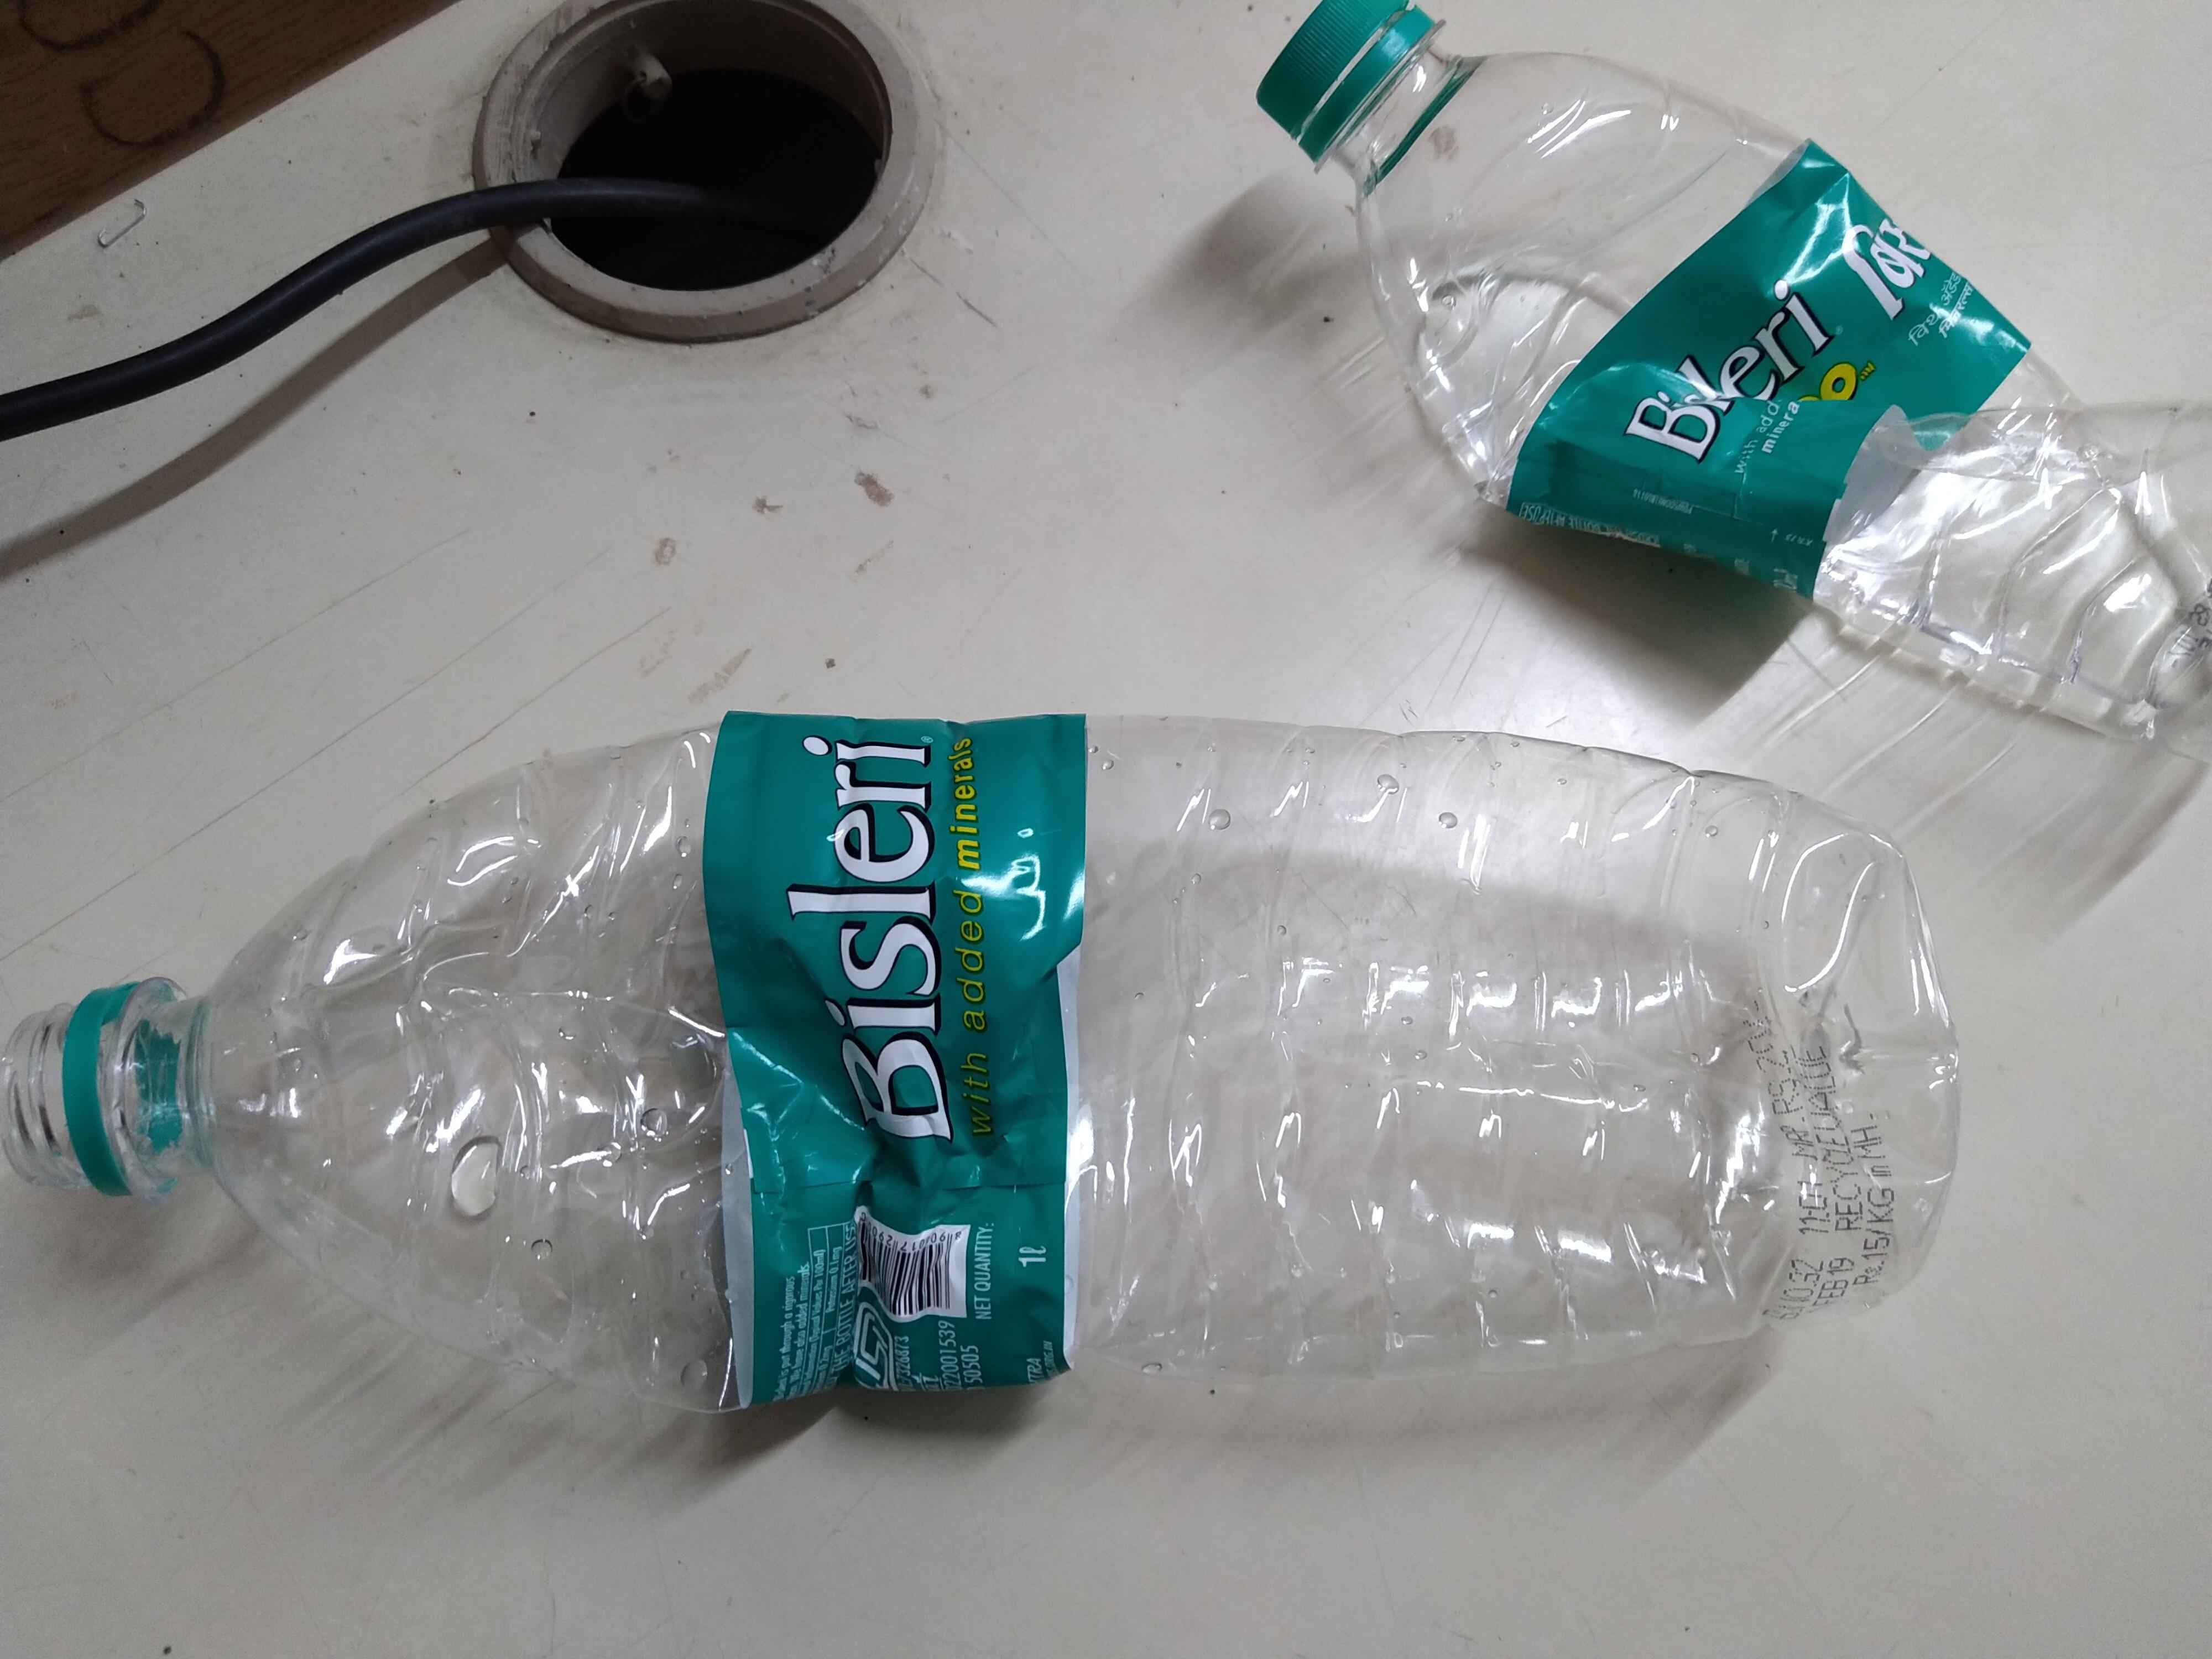Bisleri: (728, 708, 1073, 1391), (1573, 202, 1956, 491)
